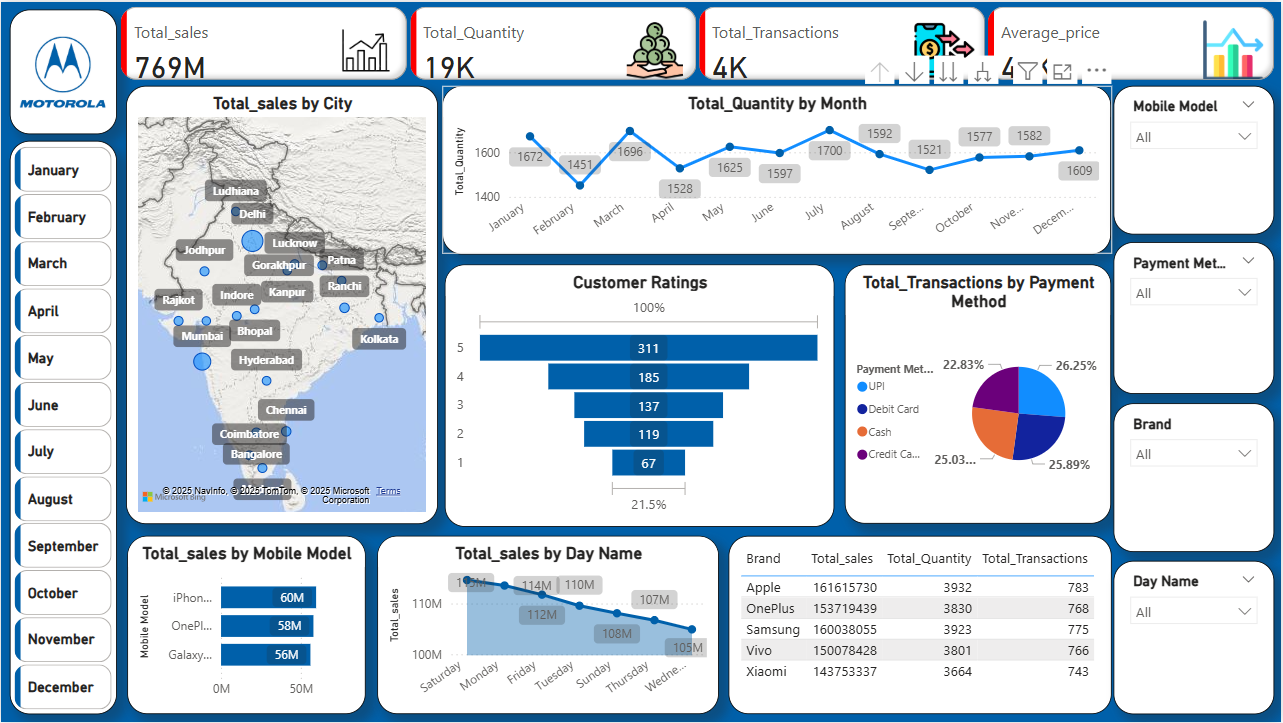

Layout of this report page (visuals, bound fields, positions):
{"tool":"powerbi","page":{"name":"Page 1","canvas":[1280,720],"ordinal":0},"visuals":[{"type":"shape","box":[8.3,7.1,107.1,125],"z":0},{"type":"image","box":[13.1,22.6,98.8,95.2],"z":1000},{"type":"shape","box":[8.2,138.6,107,573.6],"z":2000},{"type":"advancedSlicerVisual","fields":{"Values":["Sales_data.Date.Variation.Date Hierarchy.Month"]},"box":[8.2,140,107,573.6],"z":3000},{"type":"cardVisual","fields":{"Data":["Sales_data.Total_sales","Sales_data.Total_Quantity","Sales_data.Total_Transactions","Sales_data.Average_price"]},"box":[115.3,0,1165,83.7],"z":4000},{"type":"map","fields":{"Category":["Sales_data.City"],"Size":["Sales_data.Total_sales"]},"box":[125,83.3,311.9,438.1],"z":5000},{"type":"lineChart","fields":{"Category":["Sales_data.Date.Variation.Date Hierarchy.Month","Sales_data.Date.Variation.Date Hierarchy.Day"],"Y":["Sales_data.Total_Quantity"]},"box":[441.7,83.3,669.1,169],"z":6000},{"type":"clusteredBarChart","fields":{"Category":["Sales_data.Mobile Model"],"Y":["Sales_data.Total_sales"]},"box":[126.2,533.3,238.1,178.6],"z":7000},{"type":"pieChart","fields":{"Category":["Sales_data.Payment Method"],"Y":["Sales_data.Total_Transactions"]},"box":[844.1,261.9,266.7,259.5],"z":8000},{"type":"funnel","title":"Customer Ratings","fields":{"Category":["Sales_data.Customer Ratings"],"Y":["CountNonNull(Sales_data.Customer Ratings)"]},"box":[443.2,262.1,389.7,262.1],"z":9000},{"type":"areaChart","fields":{"Category":["Sales_data.Day Name"],"Y":["Sales_data.Total_sales"]},"box":[376.2,533.3,341.7,178.6],"z":10000},{"type":"tableEx","fields":{"Values":["Sales_data.Brand","Sales_data.Total_sales","Sales_data.Total_Quantity","Sales_data.Total_Transactions"]},"box":[727.4,533.3,383.3,178.6],"z":11000},{"type":"slicer","fields":{"Values":["Sales_data.Mobile Model"]},"box":[1113.1,83.3,160.7,148.8],"z":12000},{"type":"slicer","fields":{"Values":["Sales_data.Payment Method"]},"box":[1113.1,240.5,160.7,152.4],"z":13000},{"type":"slicer","fields":{"Values":["Sales_data.Brand"]},"box":[1113.1,401.2,160.7,148.8],"z":14000},{"type":"slicer","fields":{"Values":["Sales_data.Day Name"]},"box":[1113.1,558.3,160.7,153.6],"z":15000}]}

Visuals, with their boxes in screenshot pixels (x1, y1, x2, y2), scaled from the page's 1280x720 canvas onto the 1283x723 screenshot:
shape: detection(8, 7, 116, 133)
image: detection(13, 23, 112, 118)
shape: detection(8, 139, 115, 715)
advancedSlicerVisual - Sales_data.Date.Variation.Date Hierarchy.Month: detection(8, 141, 115, 717)
cardVisual - Sales_data.Total_sales x Sales_data.Total_Quantity: detection(116, 0, 1282, 84)
map - Sales_data.City x Sales_data.Total_sales: detection(125, 84, 438, 524)
lineChart - Sales_data.Date.Variation.Date Hierarchy.Month x Sales_data.Date.Variation.Date Hierarchy.Day: detection(443, 84, 1113, 253)
clusteredBarChart - Sales_data.Mobile Model x Sales_data.Total_sales: detection(126, 536, 365, 715)
pieChart - Sales_data.Payment Method x Sales_data.Total_Transactions: detection(846, 263, 1113, 524)
"Customer Ratings" funnel: detection(444, 263, 835, 526)
areaChart - Sales_data.Day Name x Sales_data.Total_sales: detection(377, 536, 720, 715)
tableEx - Sales_data.Brand x Sales_data.Total_sales: detection(729, 536, 1113, 715)
slicer - Sales_data.Mobile Model: detection(1116, 84, 1277, 233)
slicer - Sales_data.Payment Method: detection(1116, 242, 1277, 395)
slicer - Sales_data.Brand: detection(1116, 403, 1277, 552)
slicer - Sales_data.Day Name: detection(1116, 561, 1277, 715)
